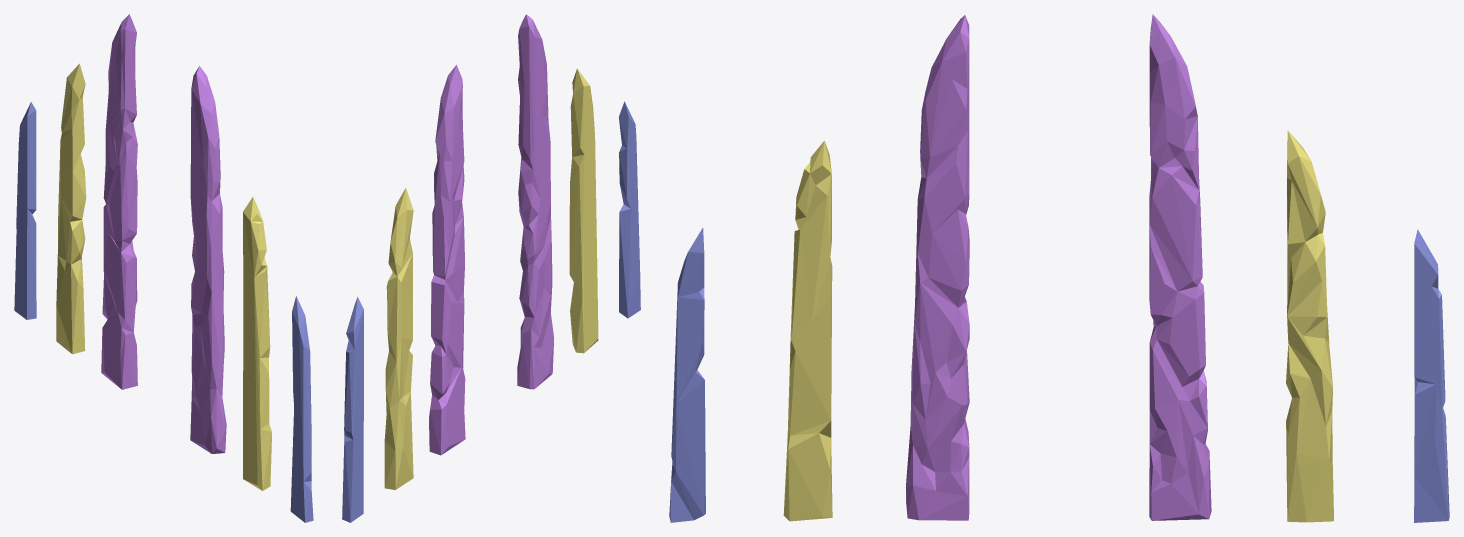
Rendered from Altar.fbx.
3 views of the same model, side by side, from view 1: azimuth 30°, elevation 25°; view 2: azimuth 150°, elevation 25°; view 3: azimuth 270°, elevation 25° (orthographic). The views are drawn at different scales.
Parts seen in each view (by area): view 1: cube_NewUVs_1; view 2: cube_NewUVs_1; view 3: cube_NewUVs_1.
Part boxes in pixels (x1,y1,x2,y2): cube_NewUVs_1: (14,14,313,522); cube_NewUVs_1: (342,14,640,522); cube_NewUVs_1: (669,14,1449,522).
Bounding box in the file's own units: 0.1424 × 2.67 × 3.73.
